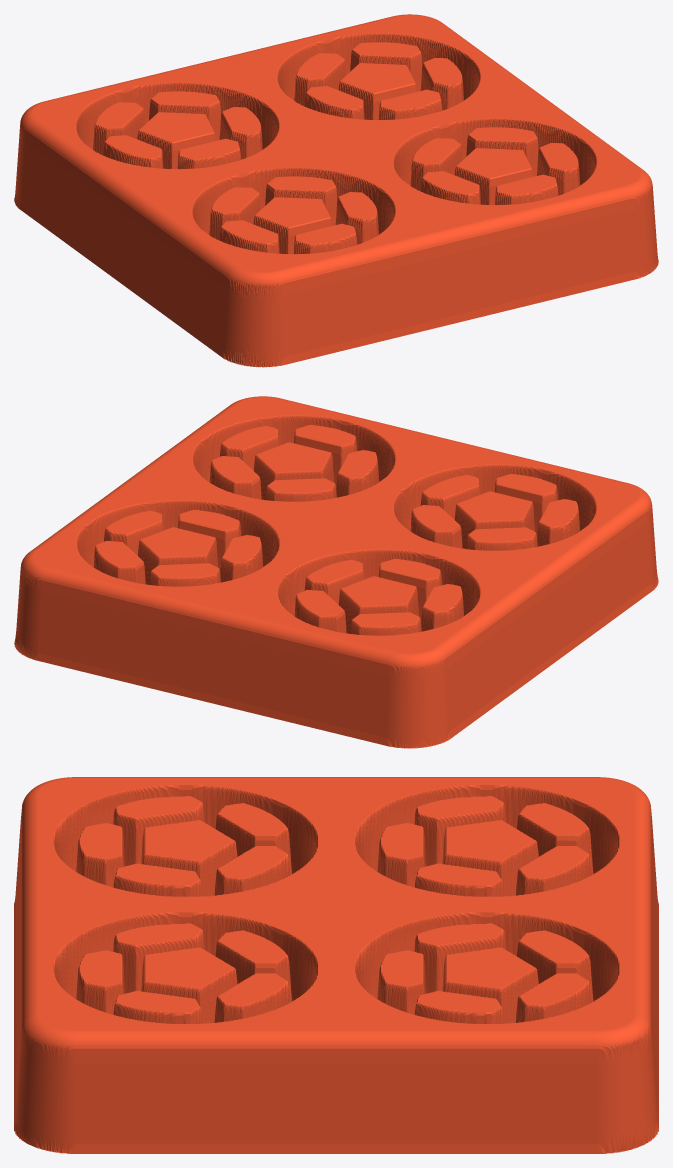
File: mold.glb
3 renders of one model, top to bottom at view 1: azimuth 30°, elevation 25°; view 2: azimuth 150°, elevation 25°; view 3: azimuth 270°, elevation 25°, orthographic. The views are drawn at different scales.
Visible parts, largest first — view 1: geometry_0; view 2: geometry_0; view 3: geometry_0.
Boxes of the visible parts, bbox=[...] form: geometry_0: bbox=[14, 14, 658, 367]; geometry_0: bbox=[14, 396, 658, 748]; geometry_0: bbox=[14, 777, 658, 1153].
Bounding box in the file's own units: 0.0942 × 0.0182 × 0.0942.
